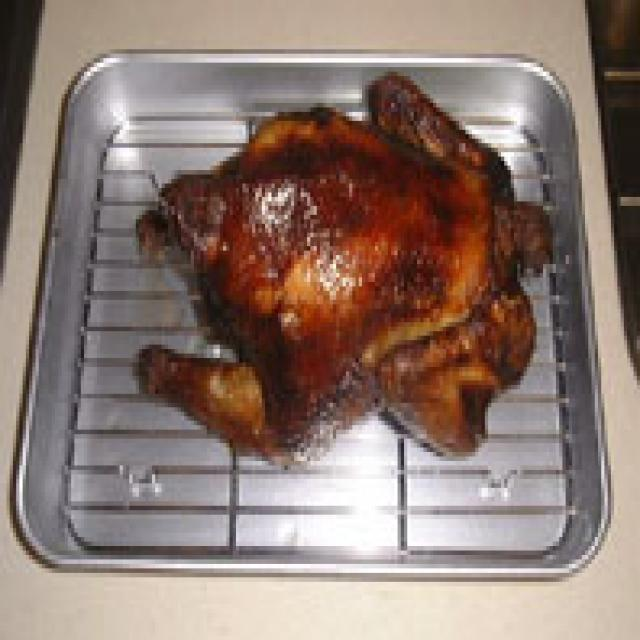Chicken roast: (130, 72, 550, 448)
